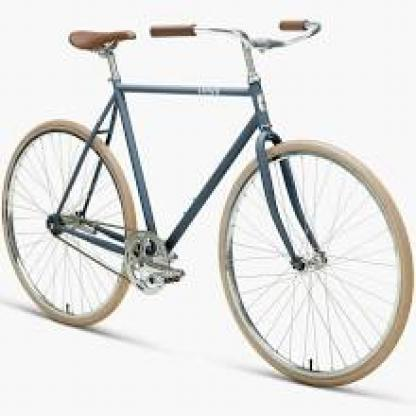Bike: (0, 15, 416, 389)
